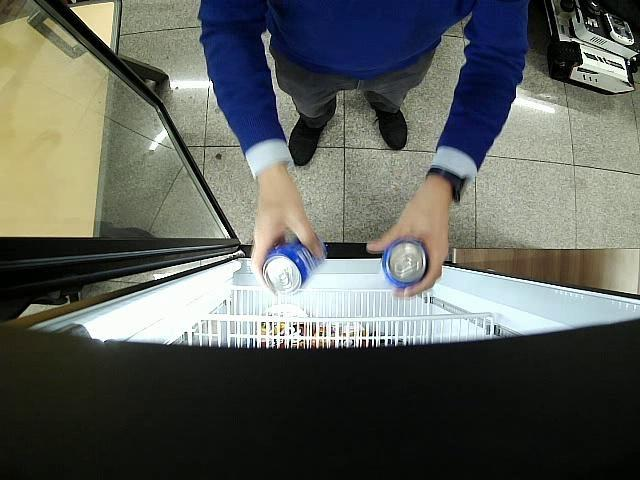13_pocariSweat: (264, 238, 326, 294), (381, 240, 428, 288)
